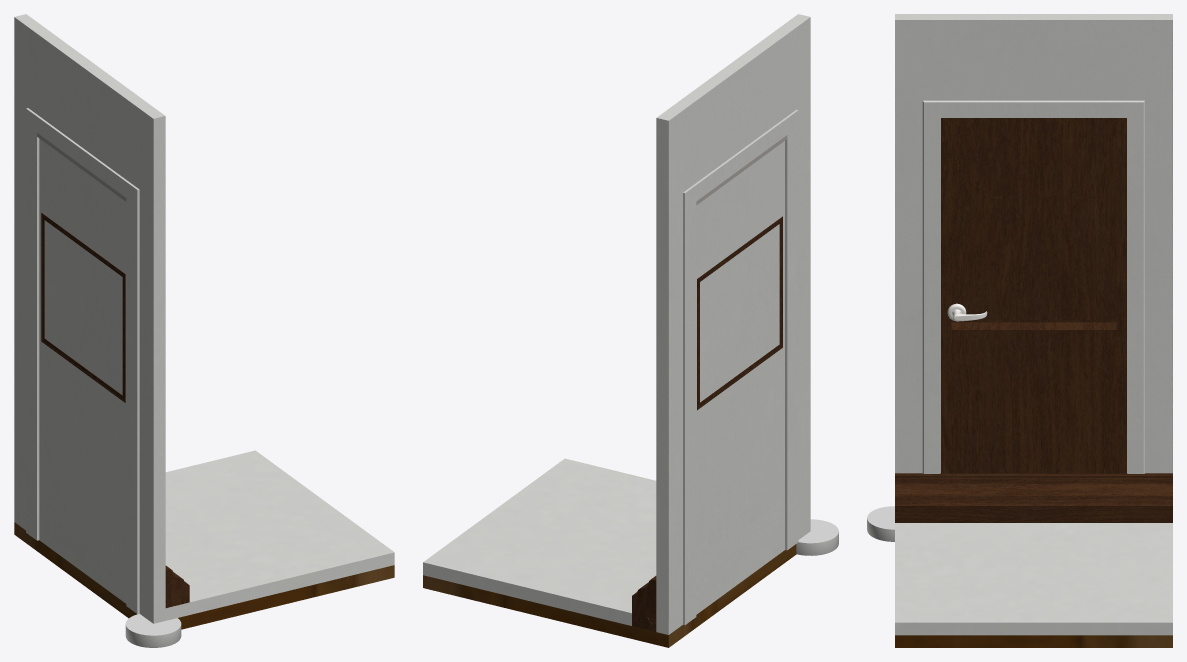
File: Modular Structure.fbx
The picture shows the model from 3 angles, left to right: view 1: azimuth 30°, elevation 25°; view 2: azimuth 150°, elevation 25°; view 3: azimuth 270°, elevation 25°; orthographic projection. The views are drawn at different scales.
Parts seen in each view (by area): view 1: DoorWall, WindowWall, WallA, Ceiling, Floor, Light Fixture, Wainscotting; view 2: DoorWall, WallA, WindowWall, Ceiling, Floor, Light Fixture, Wainscotting; view 3: DoorWall, Ceiling, WindowWall, WallA, Wainscotting, Floor, Wainscotting Door, Light Fixture.
Part boxes in pixels (x1,y1,x2,y2): DoorWall: (14, 14, 165, 613); WindowWall: (14, 14, 165, 609); WallA: (14, 14, 165, 610); Ceiling: (14, 450, 394, 623); Floor: (14, 522, 394, 629); Light Fixture: (125, 613, 181, 647); Wainscotting: (165, 566, 189, 607); DoorWall: (656, 14, 810, 634); WallA: (656, 14, 810, 633); WindowWall: (656, 15, 810, 633); Ceiling: (423, 458, 810, 634); Floor: (423, 544, 796, 647); Light Fixture: (796, 519, 838, 555); Wainscotting: (632, 576, 656, 631); DoorWall: (895, 14, 1172, 473); Ceiling: (895, 523, 1172, 635); WindowWall: (895, 14, 1172, 473); WallA: (895, 14, 1172, 473); Wainscotting: (895, 473, 1172, 522); Floor: (895, 635, 1172, 647); Wainscotting Door: (895, 473, 1172, 522); Light Fixture: (867, 506, 894, 541).
Size of the model in its own units: 220 by 413 by 220.
